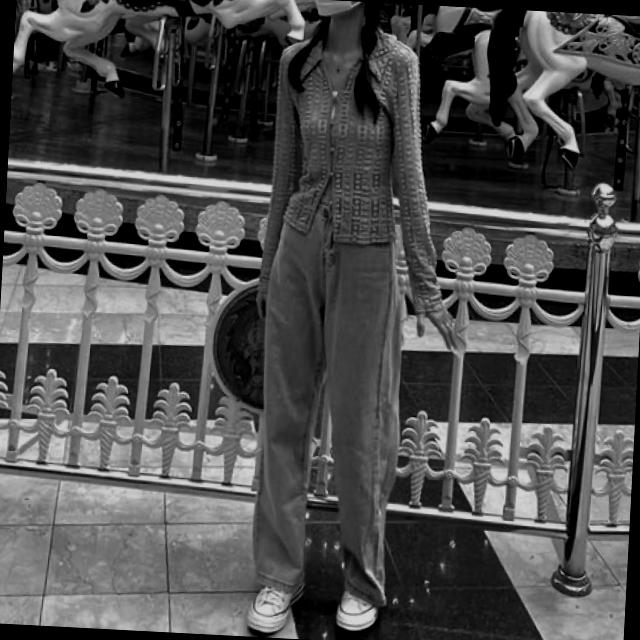cardigan: (256, 24, 464, 317)
denimpants: (244, 203, 413, 611)
